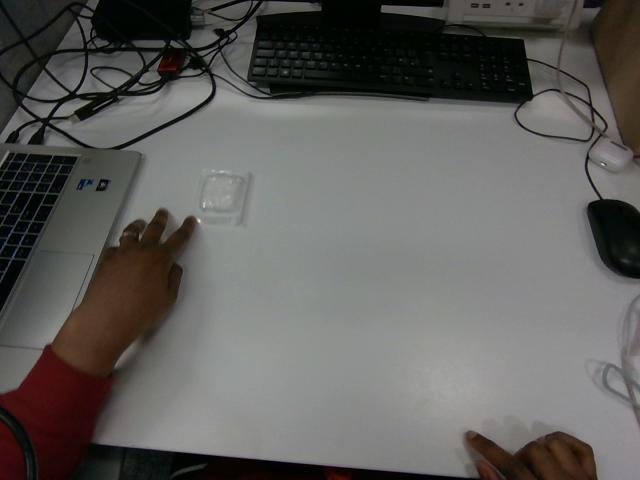gauze: (196, 170, 249, 225)
